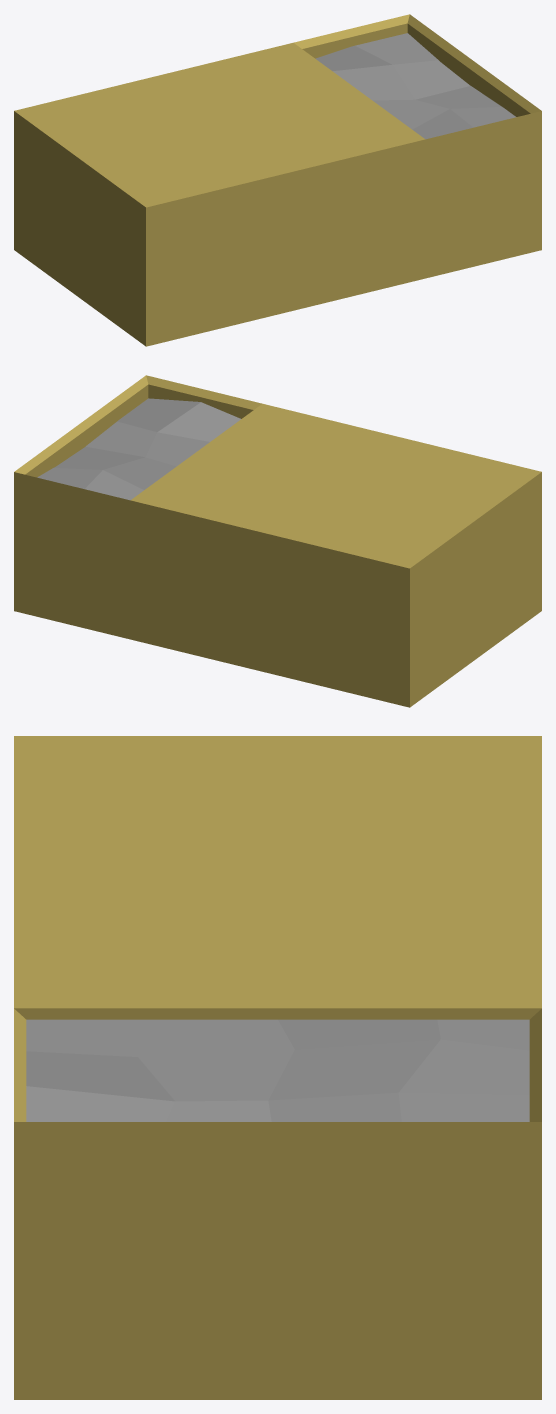
The model's file is nail_box.fbx.
3 renders of one model, top to bottom at view 1: azimuth 30°, elevation 25°; view 2: azimuth 150°, elevation 25°; view 3: azimuth 270°, elevation 25°, orthographic. The views are drawn at different scales.
Visible parts, largest first — view 1: Match Box, Nails; view 2: Match Box, Nails; view 3: Match Box, Nails.
Part boxes in pixels (box(x1,y1,x2,y2)): Match Box: box(14, 14, 541, 346); Nails: box(315, 33, 516, 139); Match Box: box(14, 375, 541, 707); Nails: box(37, 398, 240, 500); Match Box: box(14, 736, 541, 1399); Nails: box(26, 1019, 529, 1121).
Bounding box in the file's own units: 39.51 × 13.27 × 22.84.
